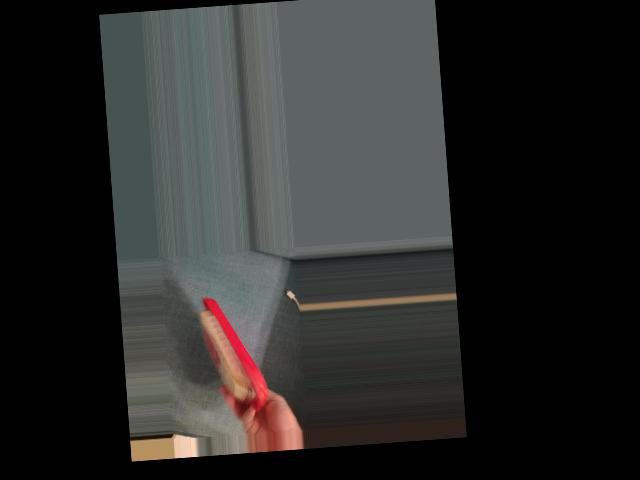cheese: (193, 292, 274, 414)
